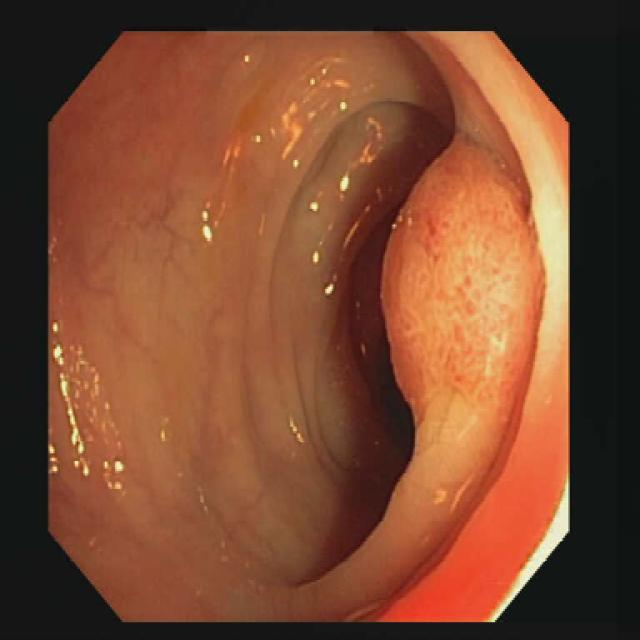tumor: (382, 136, 541, 444)
